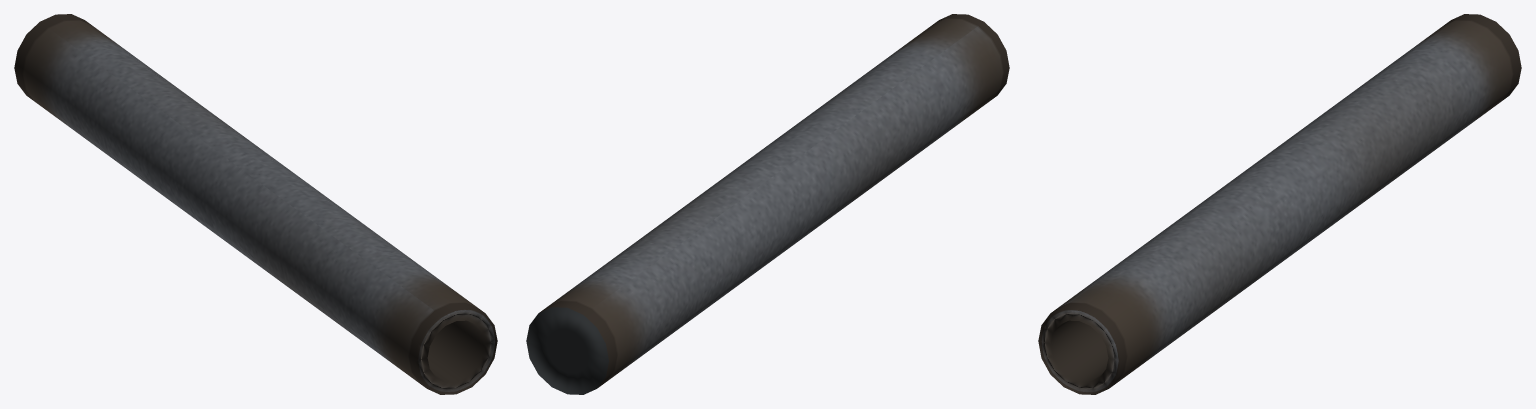
File: TurretBarrel.fbx
The picture shows the model from 3 angles, left to right: view 1: azimuth 30°, elevation 25°; view 2: azimuth 150°, elevation 25°; view 3: azimuth 330°, elevation 25°; orthographic projection.
Visible parts, largest first — view 1: TurretBarrel; view 2: TurretBarrel; view 3: TurretBarrel.
Part boxes in pixels (x1,y1,x2,y2): TurretBarrel: (14,14,497,394); TurretBarrel: (526,14,1009,394); TurretBarrel: (1038,14,1521,394).
Size of the model in its own units: 0.2211 by 0.2211 by 1.85.
Materials: 1 (1 with a texture image).
